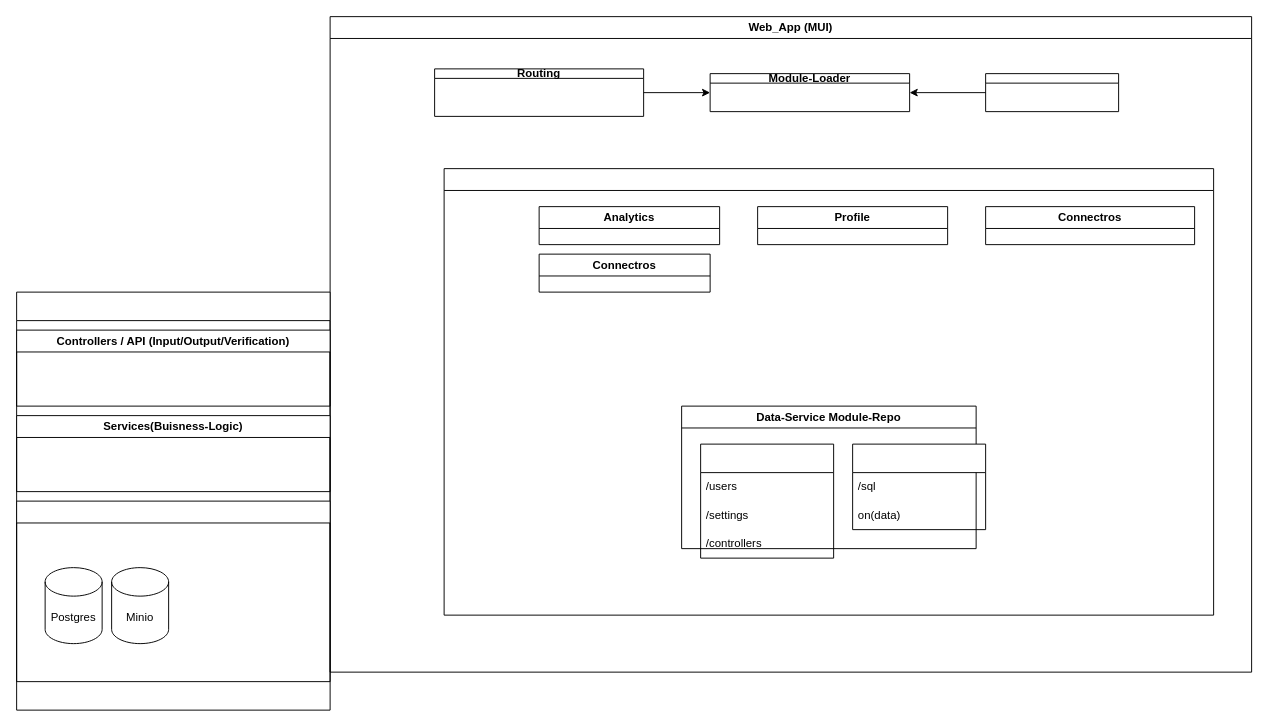
Image size: 1268x727. Some labels were removed from this diagram. The box of each missing label's shape, as (x1, y1, x2, y2) in pixels:
Back-End: (16, 291, 330, 710)
Data-Service: (700, 443, 834, 558)
EventDispatcher: (985, 73, 1119, 112)
Modules: (443, 168, 1214, 615)
Repositories: (16, 500, 330, 682)
WebSocket: (852, 443, 986, 530)
